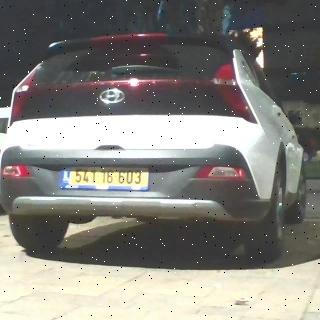LicensePlate: (70, 167, 148, 186)
